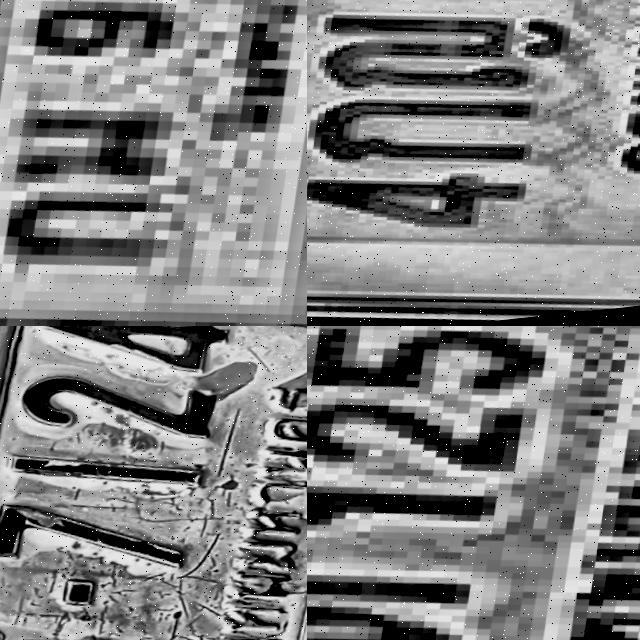license-plate: (307, 0, 640, 326), (307, 326, 640, 640), (0, 0, 307, 326), (0, 326, 307, 640)
